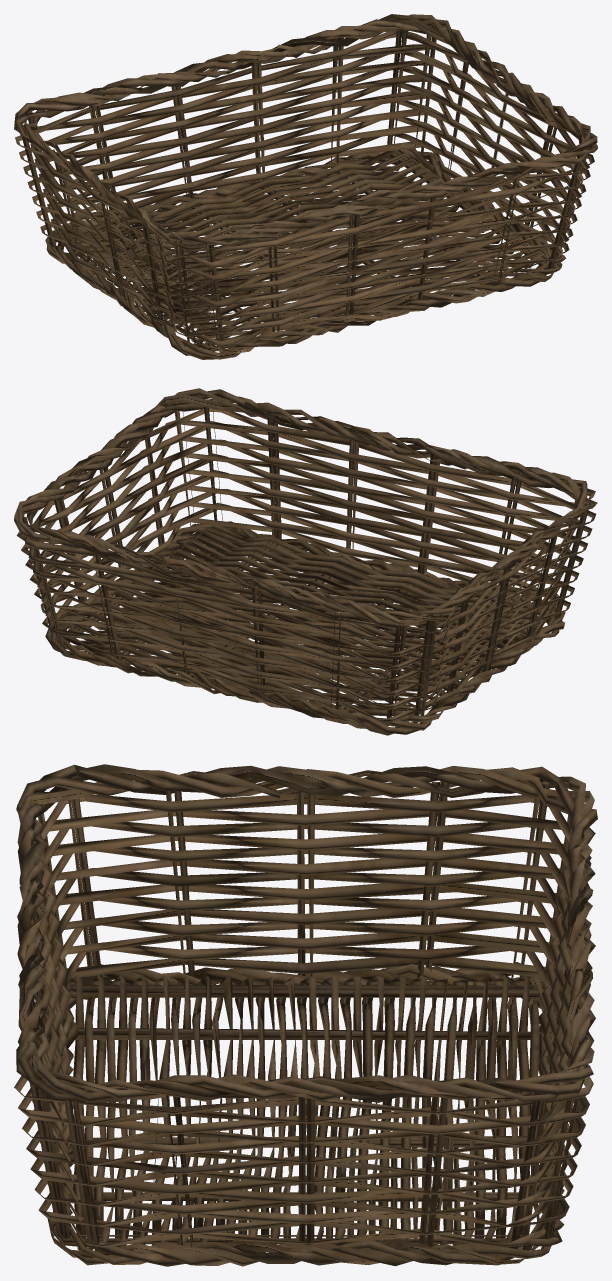
Rendered from basket_wicker.glb.
3 views of the same model, one above another, from view 1: azimuth 30°, elevation 25°; view 2: azimuth 150°, elevation 25°; view 3: azimuth 270°, elevation 25° (orthographic). The views are drawn at different scales.
Visible parts, largest first — view 1: wicker_basket_01; view 2: wicker_basket_01; view 3: wicker_basket_01.
Part boxes in pixels (x1=…): wicker_basket_01: x1=14, y1=14, x2=597, y2=359; wicker_basket_01: x1=14, y1=388, x2=597, y2=735; wicker_basket_01: x1=14, y1=764, x2=597, y2=1266.
Bounding box in the file's own units: 0.383 × 0.1174 × 0.2939.
Materials: 1 (1 with a texture image).
